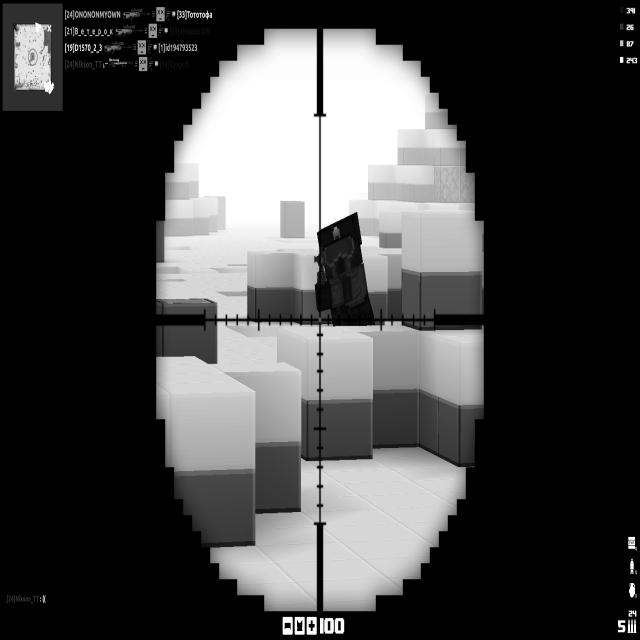Head: (318, 215, 363, 276)
Player: (314, 208, 378, 328)
